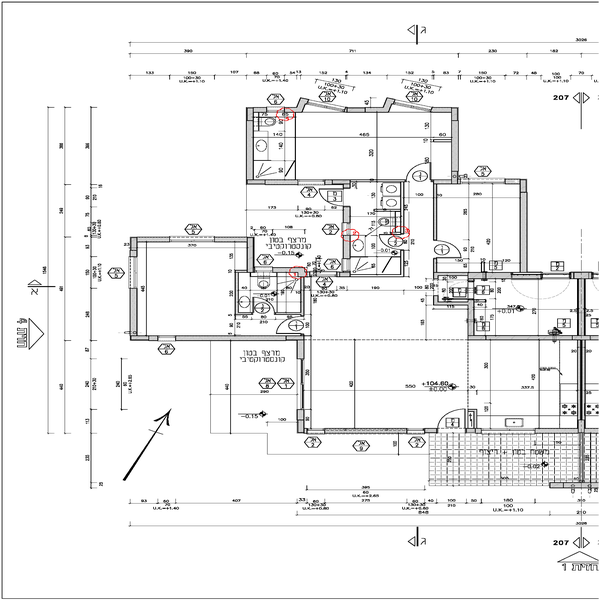door: (374, 227, 410, 256), (427, 236, 466, 262), (439, 401, 469, 434), (401, 157, 430, 184), (318, 184, 348, 207), (276, 314, 305, 336), (250, 295, 274, 316)
room: (297, 268, 473, 432), (242, 94, 465, 184), (127, 235, 308, 342), (462, 334, 587, 441), (438, 179, 528, 274), (464, 274, 581, 342)
wall: (471, 331, 600, 345), (517, 177, 534, 275), (573, 342, 587, 434), (175, 334, 304, 342), (245, 111, 257, 184), (449, 109, 461, 181), (128, 292, 140, 340), (334, 428, 405, 436), (465, 299, 476, 345), (467, 270, 510, 281), (252, 180, 299, 190), (246, 240, 256, 277), (340, 237, 354, 261)
window: (165, 234, 213, 245), (297, 357, 306, 407), (128, 257, 140, 288)
